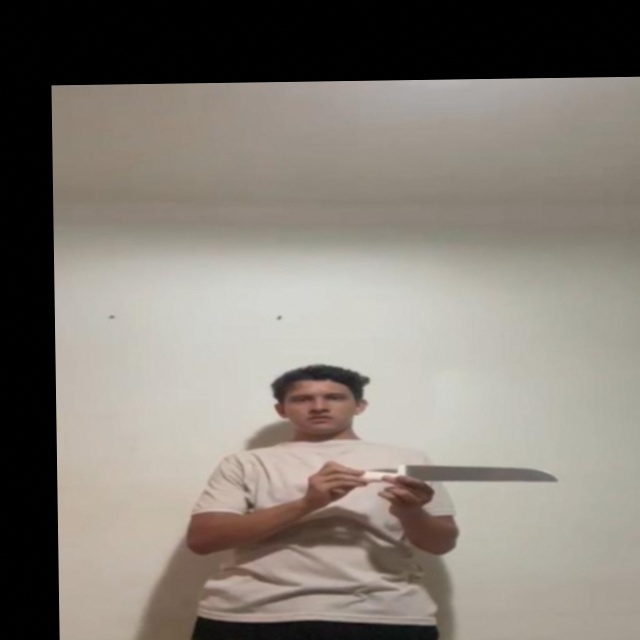Sharp-Object: (405, 460, 563, 484)
